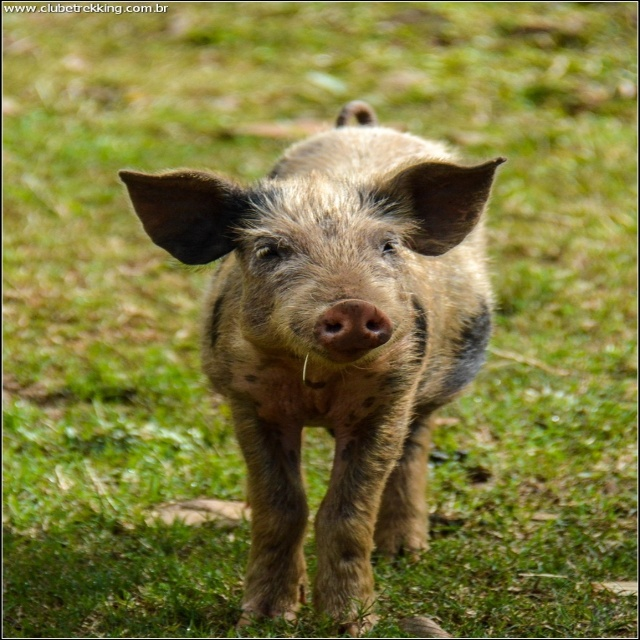Pig: (118, 100, 507, 638)
